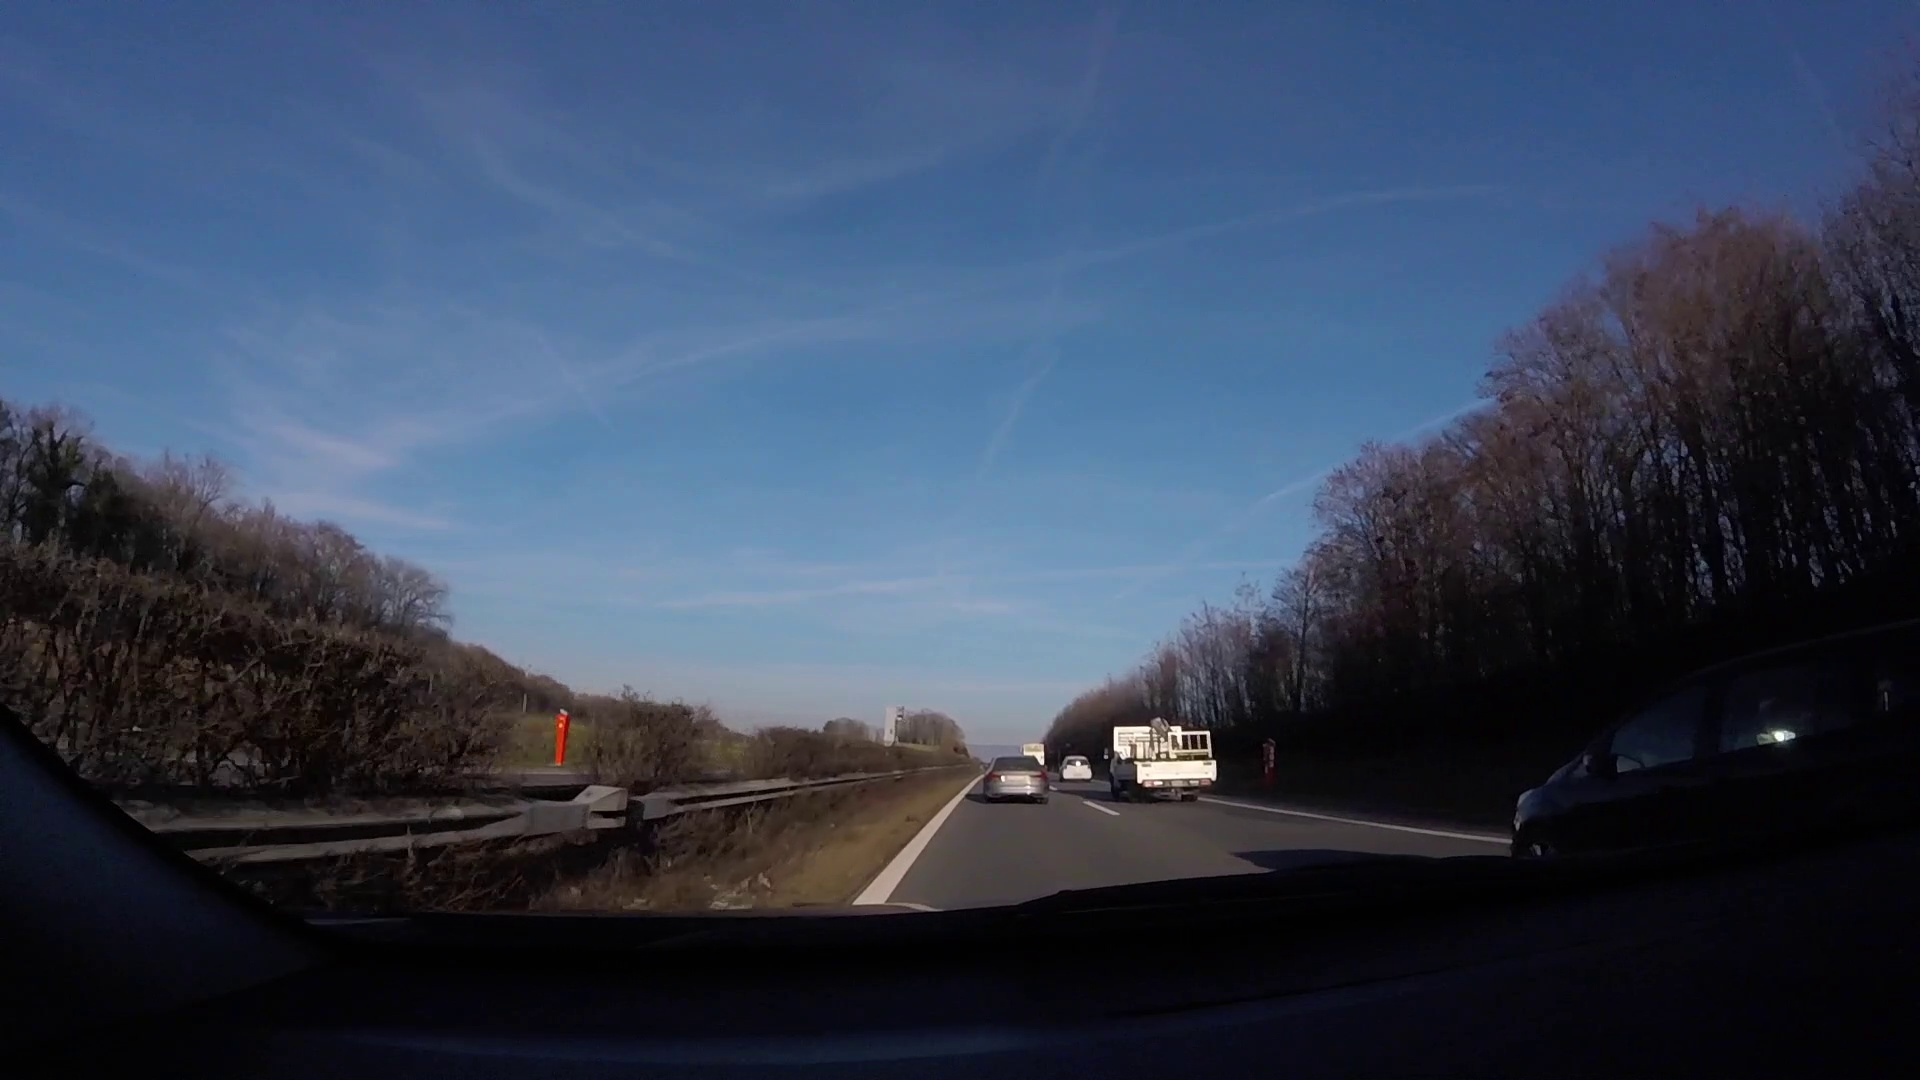radar: (882, 703, 909, 750)
